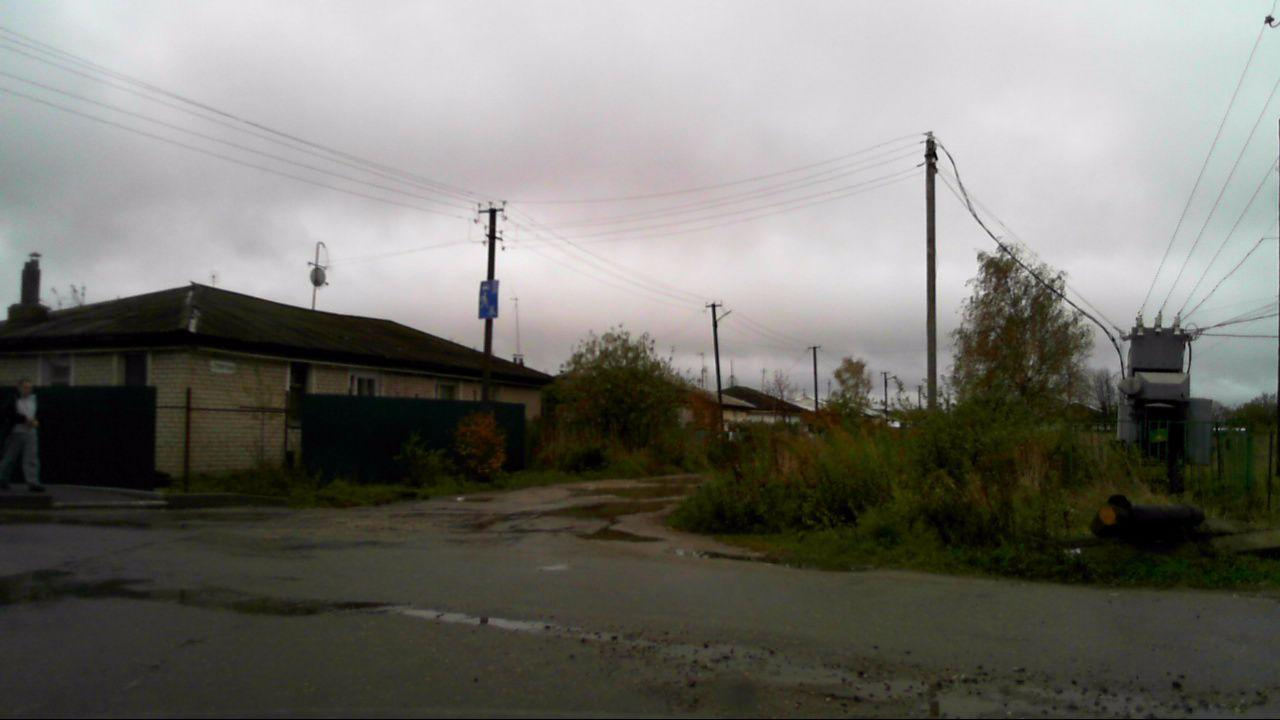5_21: (478, 279, 499, 319)
